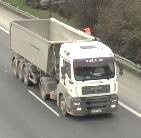truck: (9, 18, 118, 118)
